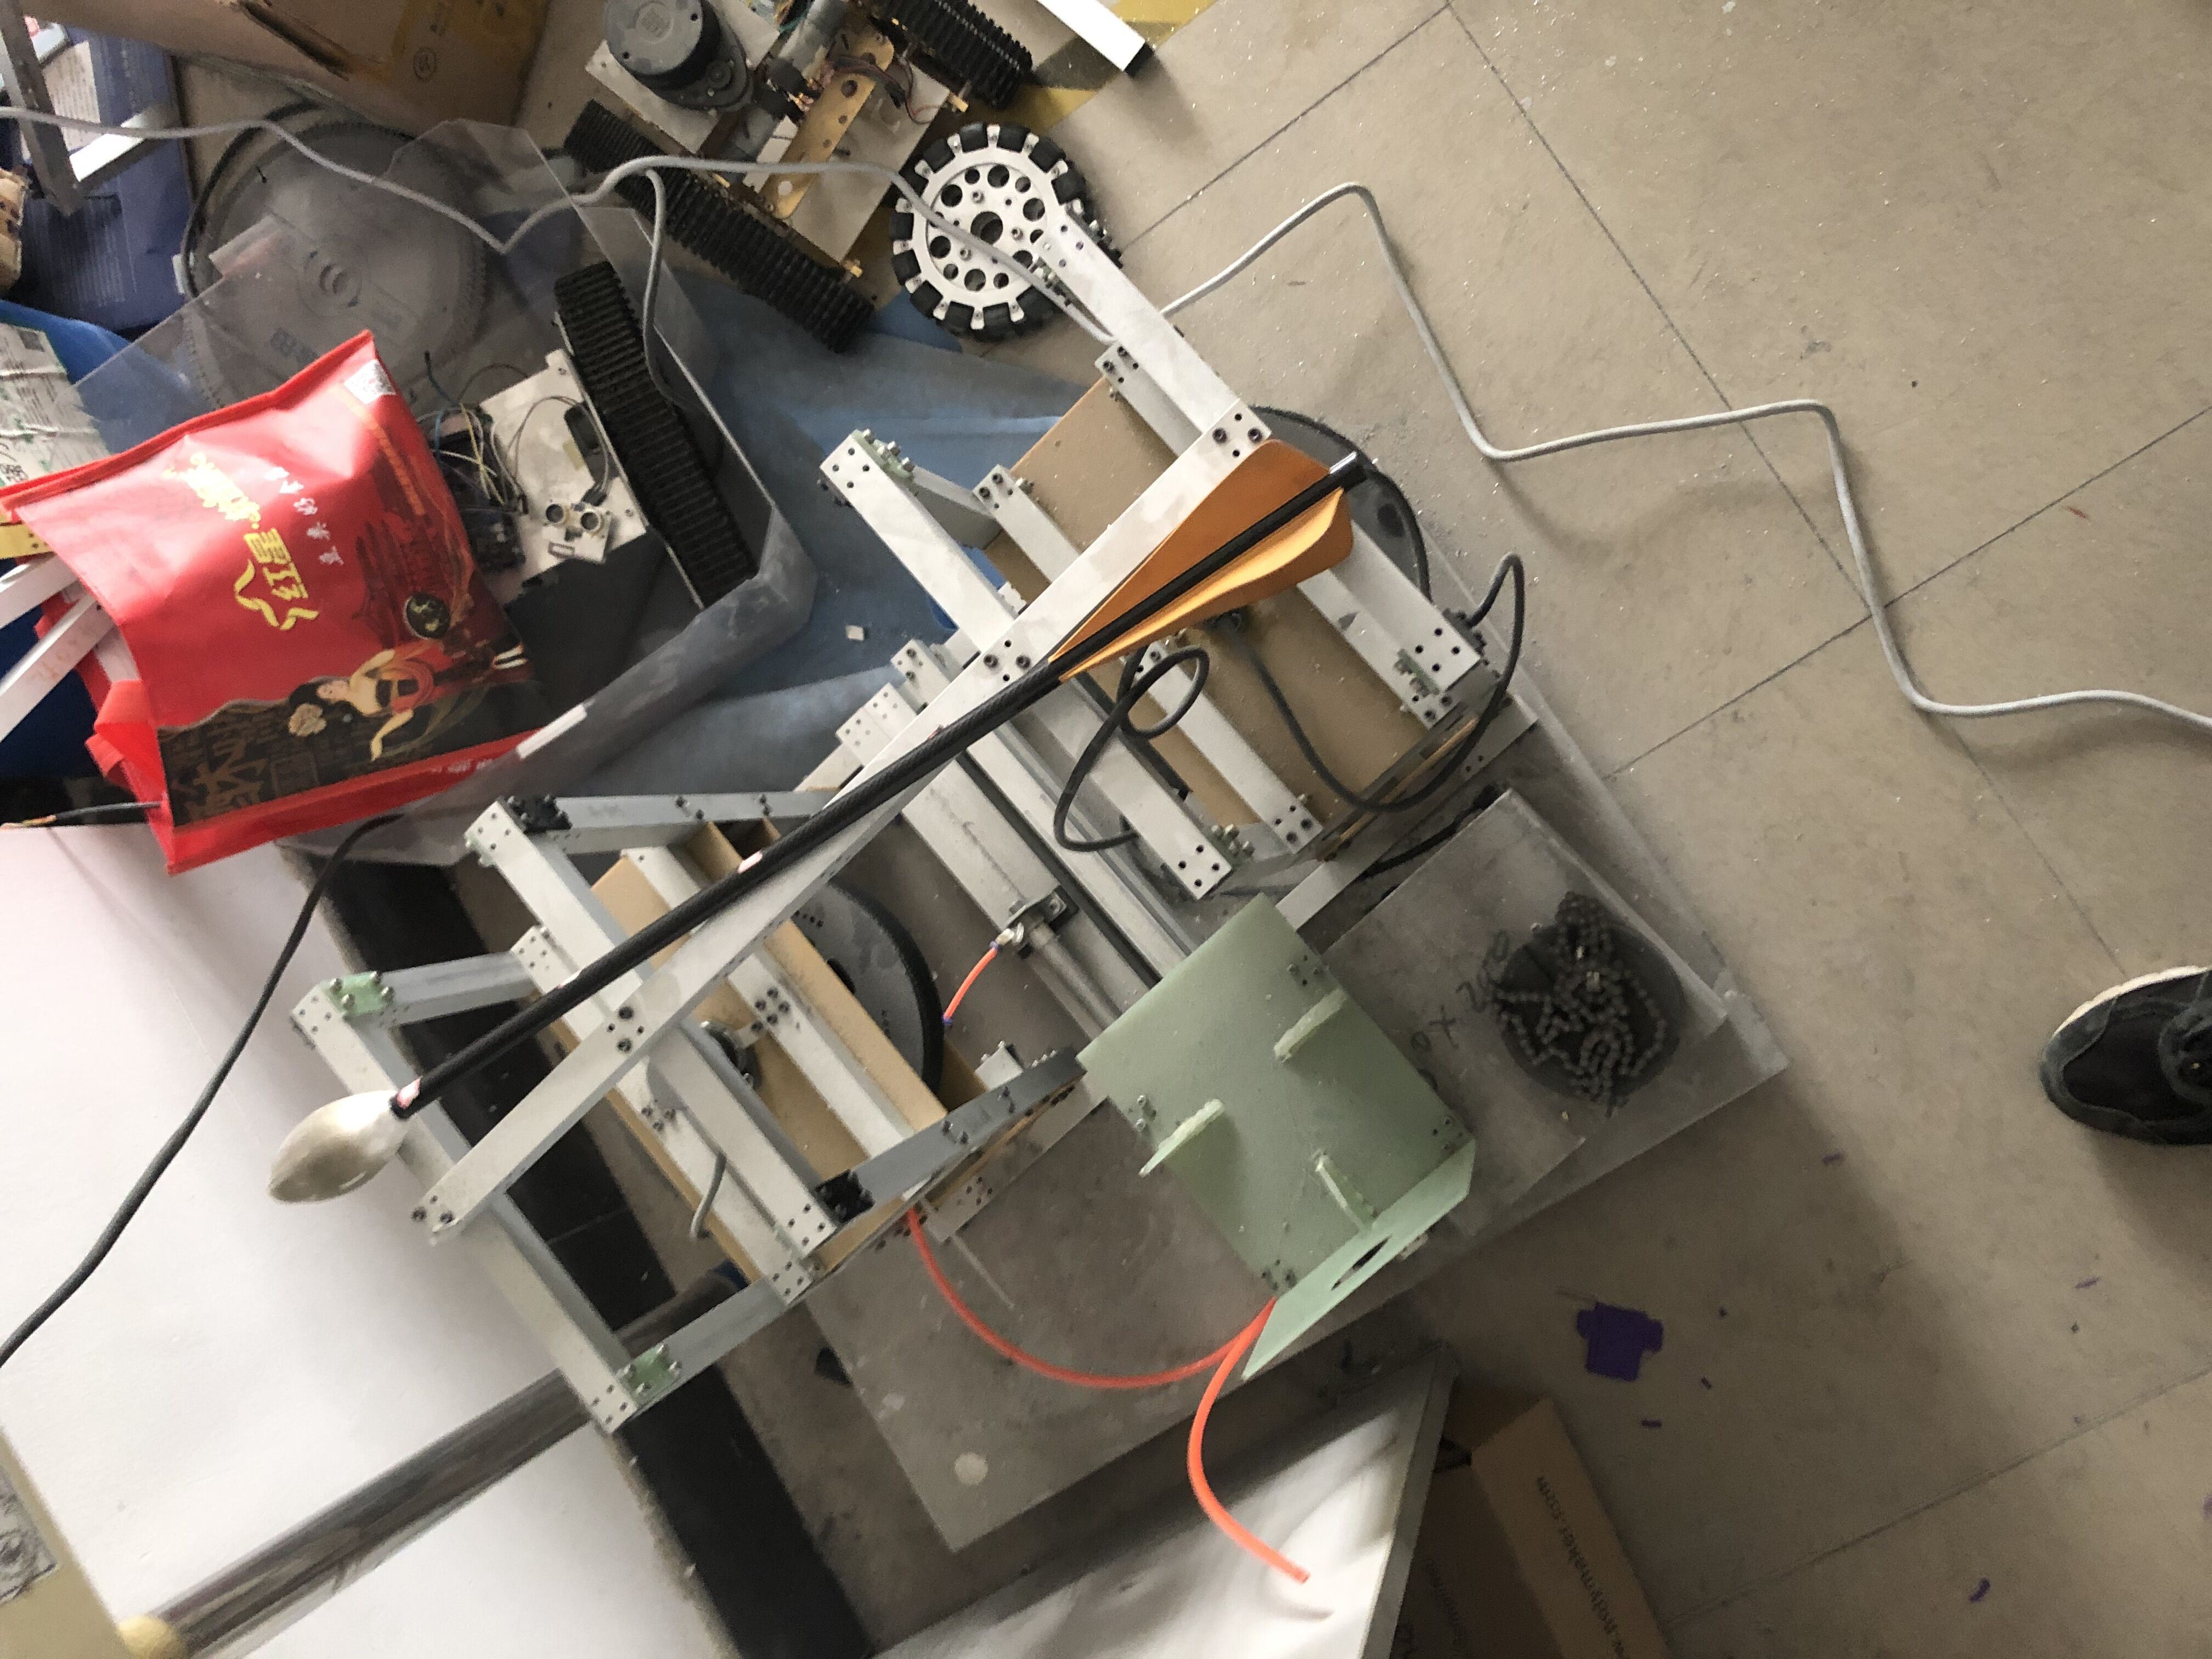arrow: (268, 439, 1371, 1202)
arrowFront: (265, 1084, 420, 1208)
